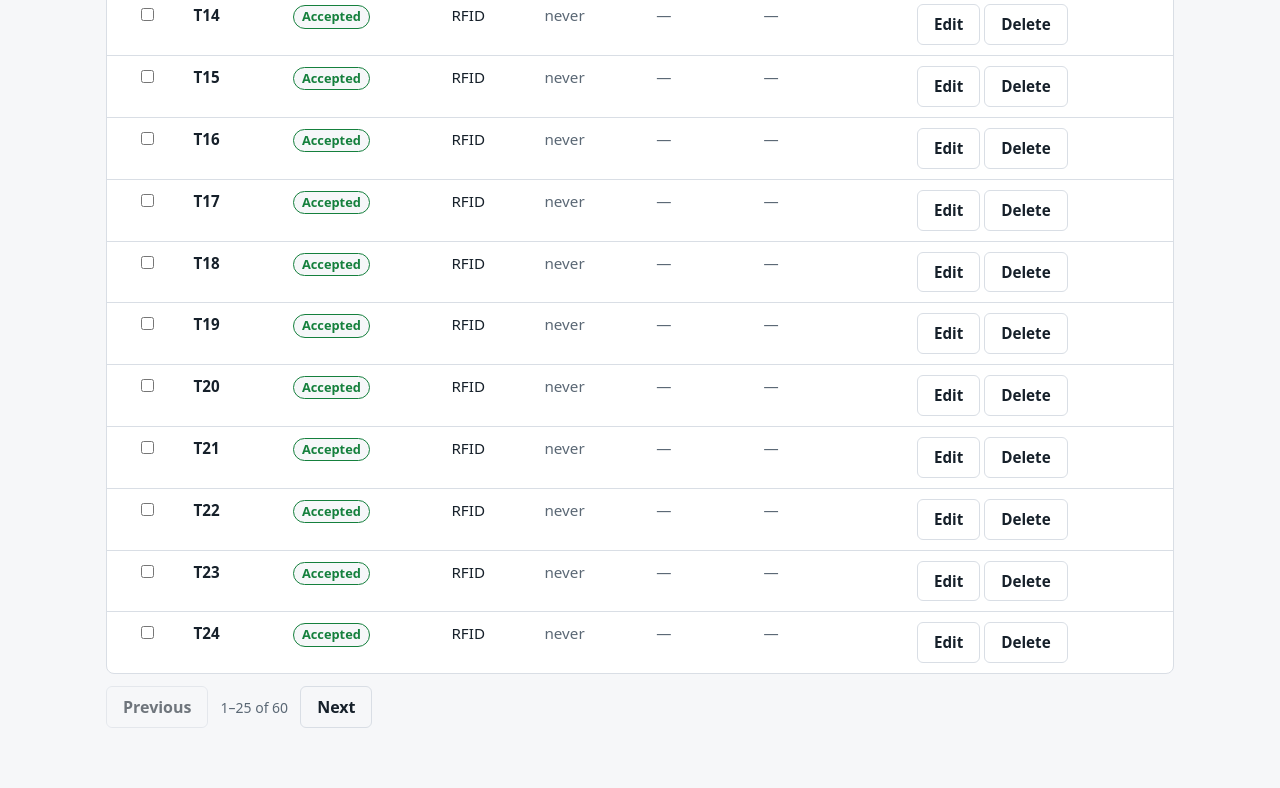
Scenario: the tags page › pages through a long list
(page scrolled)
Expected: the text "1–25 of 60" is shown, [220, 697, 288, 718]
Expected: the button "Previous" is disabled, [106, 686, 208, 728]
Click the button "Next": (336, 707) [300, 686, 372, 728]
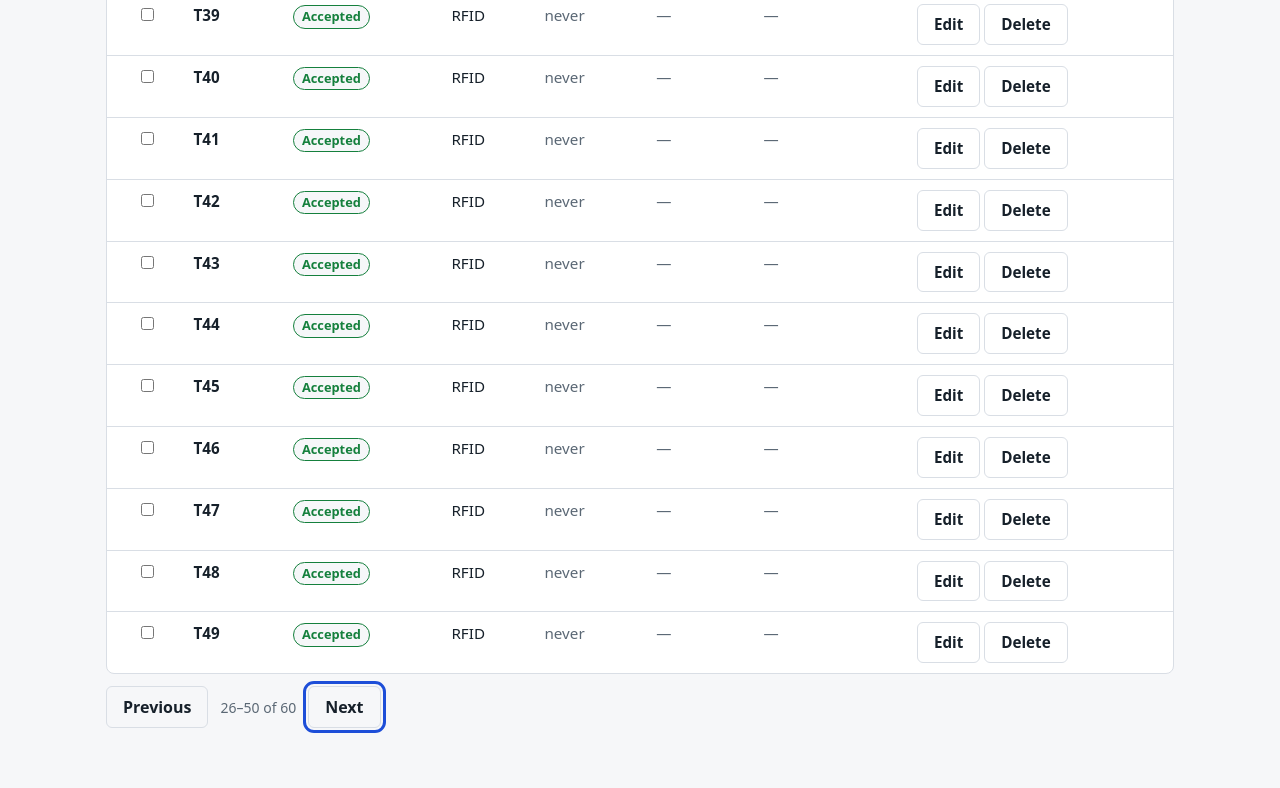
Expected: the text "26–50 of 60" is shown, [220, 697, 296, 718]
Click the button "Next": (344, 707) [308, 686, 380, 728]
(page scrolled)
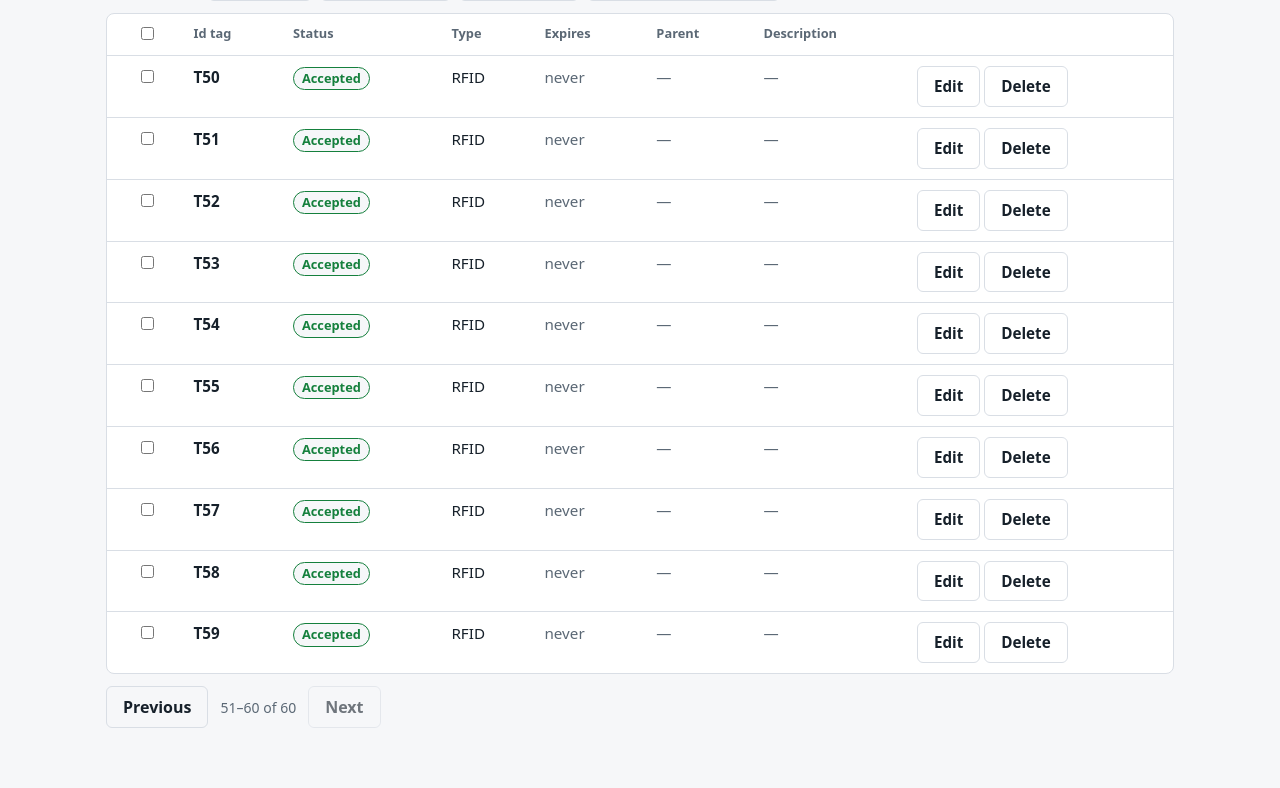
Expected: the row "T50 Accepted RFID never — — Edit Delete" is shown, [107, 56, 1173, 118]
Expected: the text "51–60 of 60" is shown, [220, 697, 296, 718]
Expected: the button "Next" is disabled, [308, 686, 380, 728]
Click the button "Previous": (157, 707) [106, 686, 208, 728]
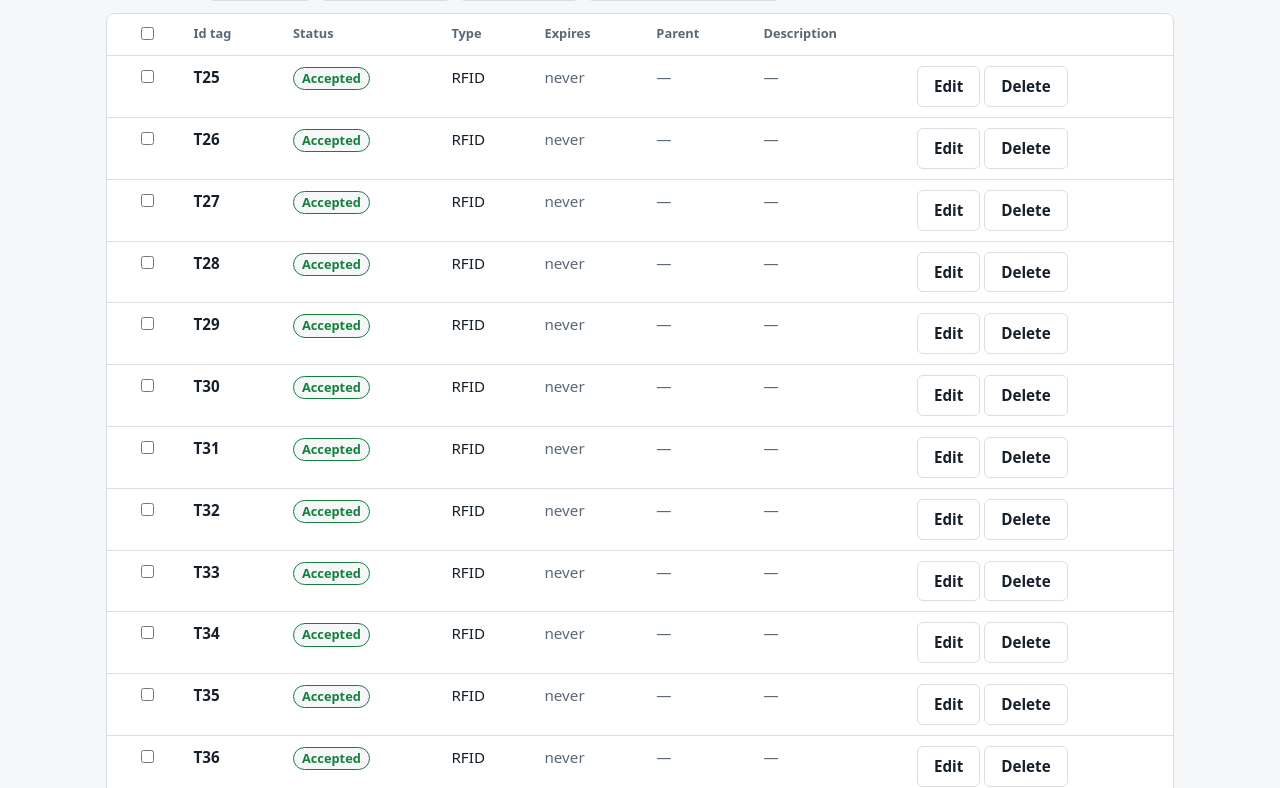
Expected: the row "T25 Accepted RFID never — — Edit Delete" is shown, [107, 56, 1173, 118]
